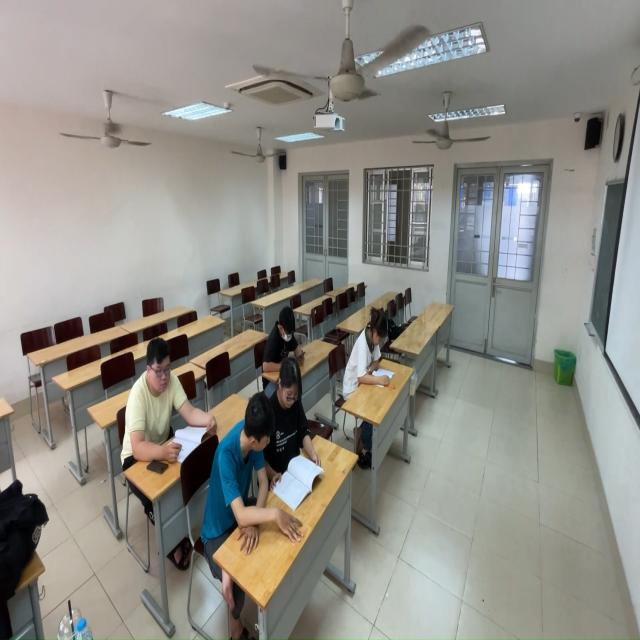read: (201, 392, 281, 560), (121, 337, 219, 463), (268, 355, 331, 490), (341, 306, 394, 408), (263, 302, 309, 365)
